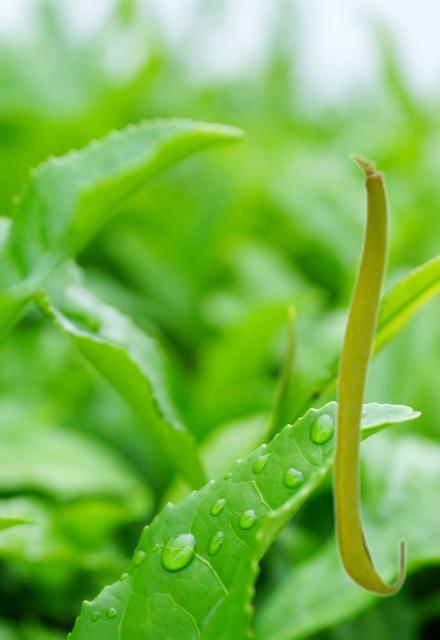french_bean: (330, 151, 407, 597)
